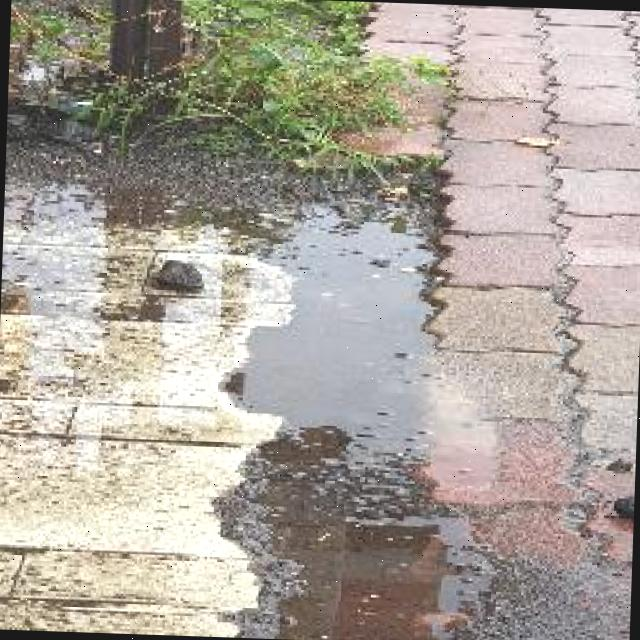stagnation: (219, 149, 503, 640)
